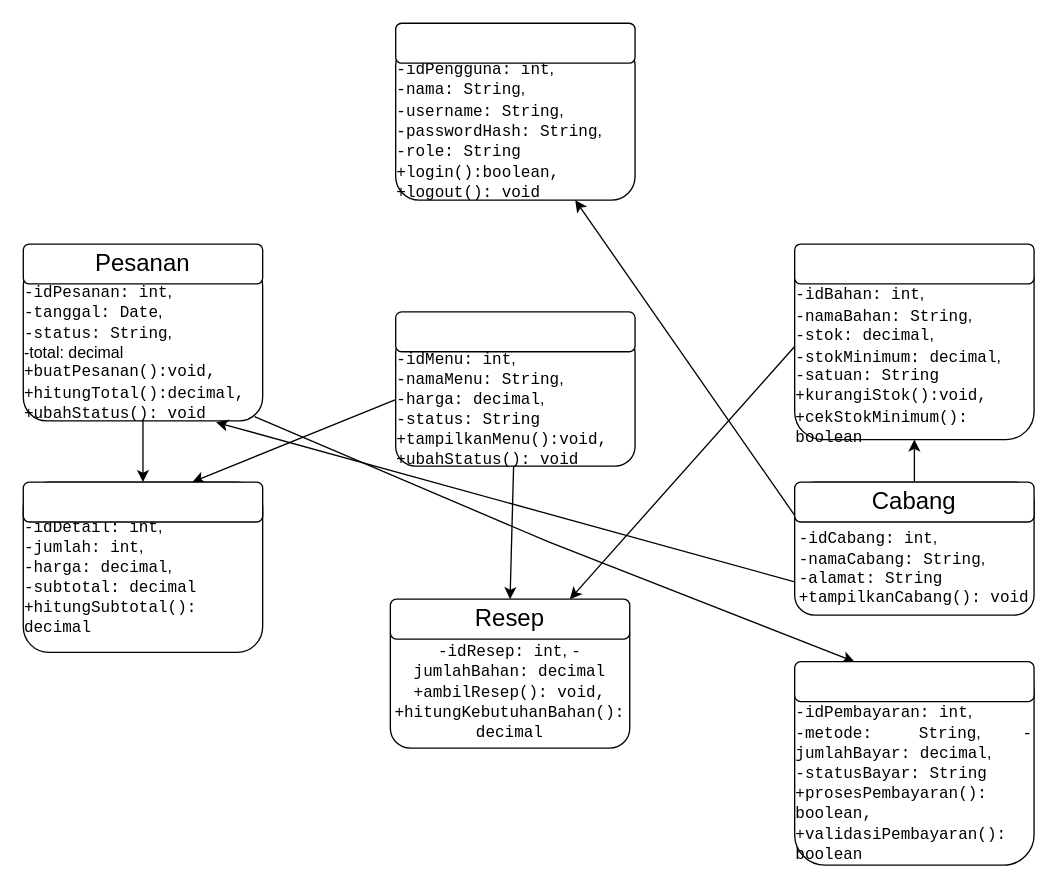
Some shapes in this 1057 by 888 pixel diagram are drawn without their labels. Each missing label, with the centre of its shape:
"Bahan baku" belongs at pixel 913 263.
"Detail pesanan" belongs at pixel 142 501.
"Menu" belongs at pixel 514 331.
"Pembayaran" belongs at pixel 913 681.
"Pengguna" belongs at pixel 514 42.
